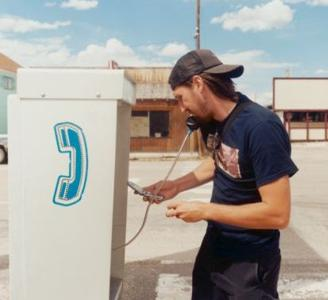person: (134, 48, 299, 300)
